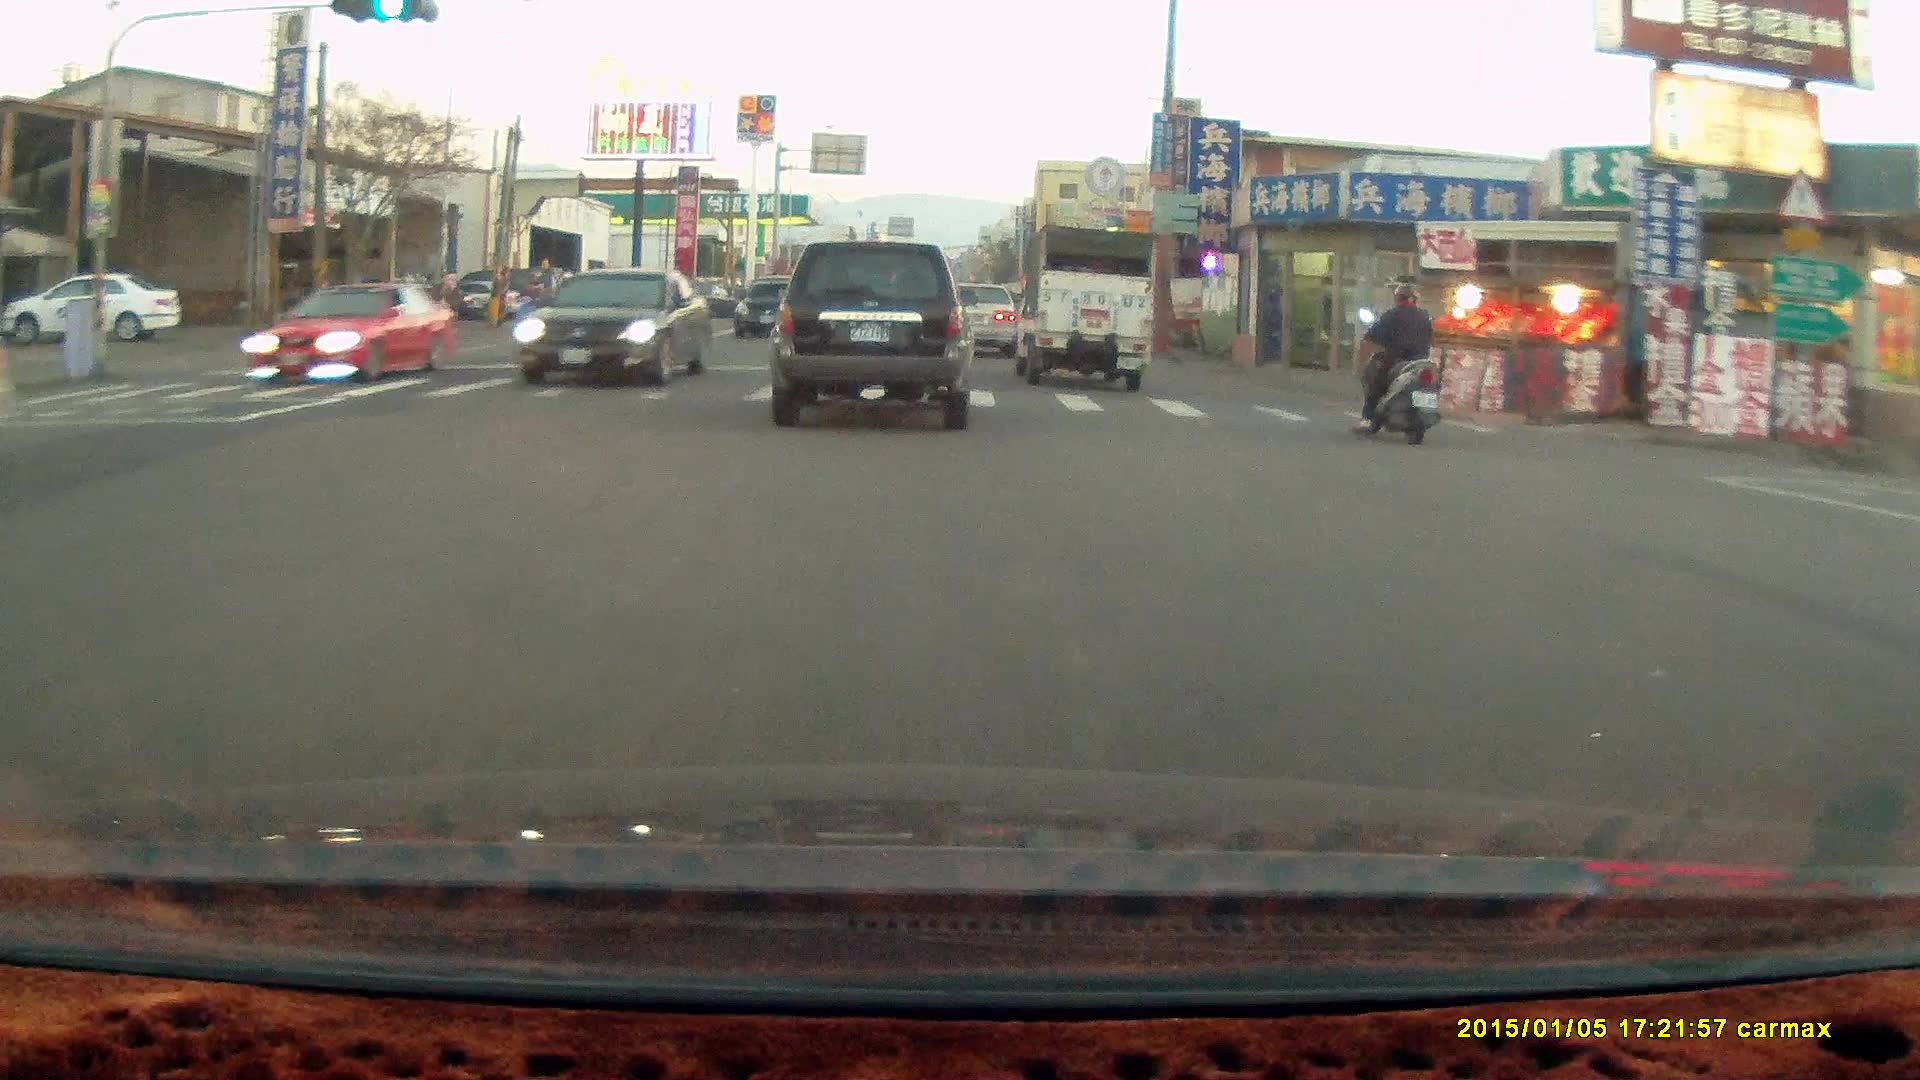rider: (1351, 287, 1440, 453)
vehicle: (768, 241, 980, 431), (1011, 224, 1159, 392), (516, 270, 716, 393), (240, 282, 453, 388), (8, 270, 186, 344), (936, 280, 1018, 356), (956, 284, 1031, 364), (734, 277, 821, 343)
